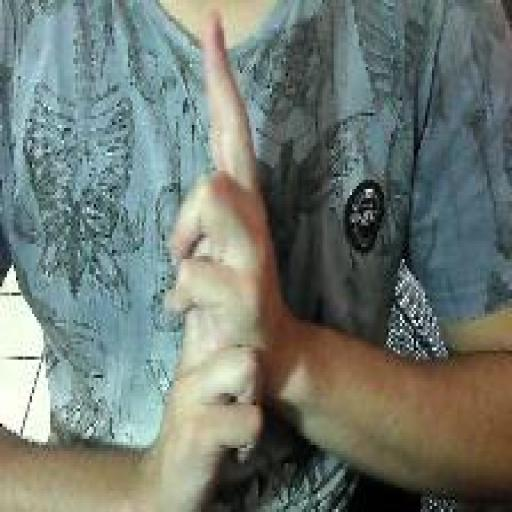Hitsuji -ram-: (154, 9, 285, 500)
